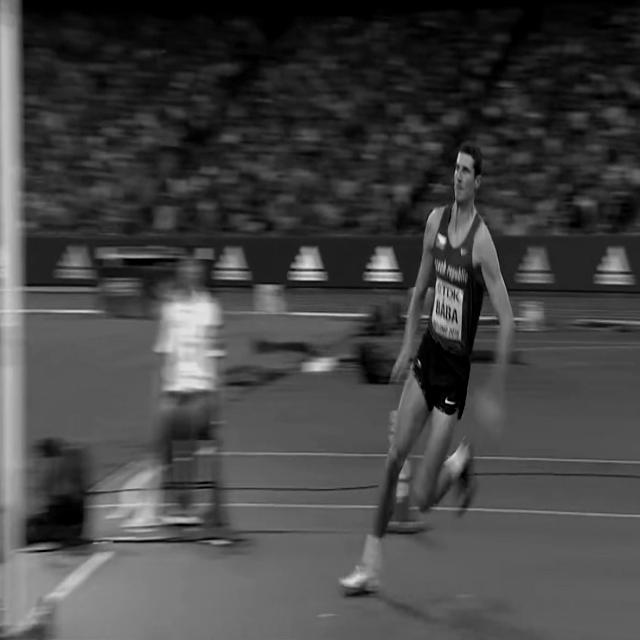run: (338, 140, 515, 597)
